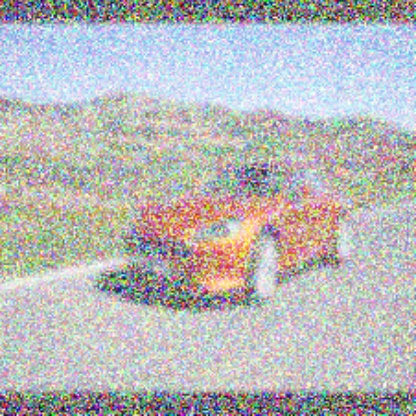Vehicle: (122, 159, 353, 308)
